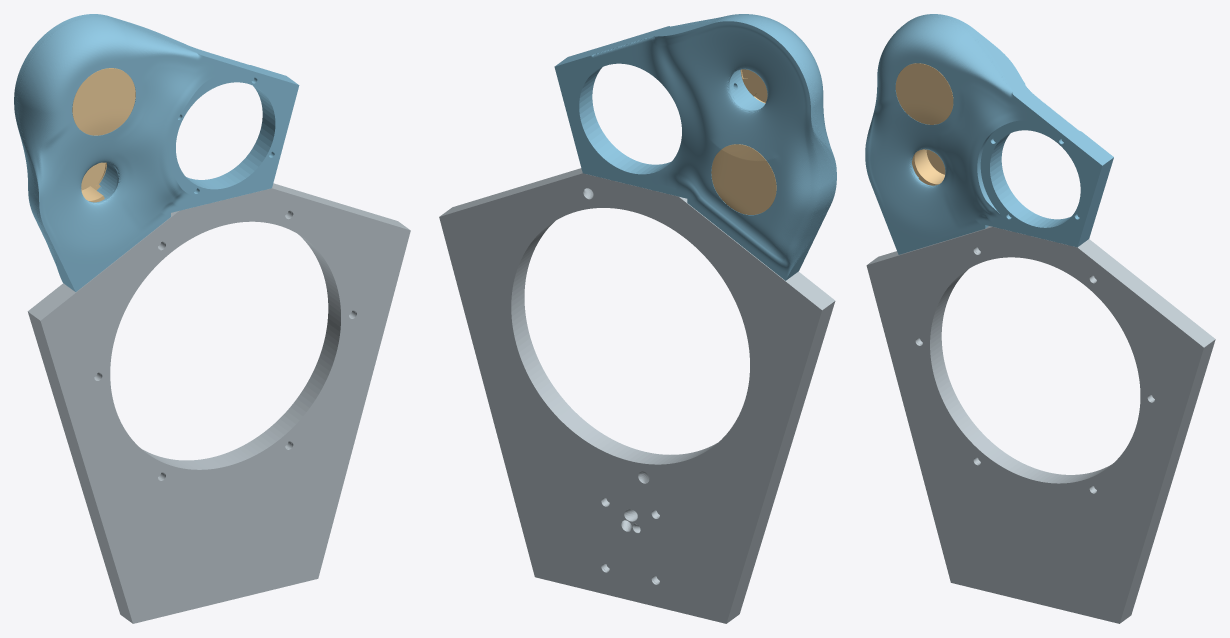
Rendered from H2C_Dayton_ND25FN4_stock_tweeters_left_assembly.glb.
3 renders of one model, left to right at view 1: azimuth 30°, elevation 25°; view 2: azimuth 150°, elevation 25°; view 3: azimuth 330°, elevation 25°, orthographic. The views are drawn at different scales.
Visible parts, largest first — view 1: stock_lm_no_floor_stand, stock_nd25fn4_tweeters_left_upper, stock_nd25fn4_tweeters_left_cap_rear, stock_nd25fn4_tweeters_left_cap_front; view 2: stock_lm_no_floor_stand, stock_nd25fn4_tweeters_left_upper, stock_nd25fn4_tweeters_left_cap_front, stock_nd25fn4_tweeters_left_cap_rear; view 3: stock_lm_no_floor_stand, stock_nd25fn4_tweeters_left_upper, stock_nd25fn4_tweeters_left_cap_rear, stock_nd25fn4_tweeters_left_cap_front.
Boxes of the visible parts, x1,y1,x2,y2 form: stock_lm_no_floor_stand: (27,183,410,623); stock_nd25fn4_tweeters_left_upper: (14,14,299,291); stock_nd25fn4_tweeters_left_cap_rear: (72,68,135,135); stock_nd25fn4_tweeters_left_cap_front: (81,162,106,202); stock_lm_no_floor_stand: (439,168,835,623); stock_nd25fn4_tweeters_left_upper: (554,14,836,280); stock_nd25fn4_tweeters_left_cap_front: (711,144,776,214); stock_nd25fn4_tweeters_left_cap_rear: (740,69,767,103); stock_lm_no_floor_stand: (866,226,1215,623); stock_nd25fn4_tweeters_left_upper: (865,14,1113,254); stock_nd25fn4_tweeters_left_cap_rear: (895,63,953,124); stock_nd25fn4_tweeters_left_cap_front: (912,149,945,185).
Bounding box in the file's own units: 0.3059 × 0.4694 × 0.0411.
